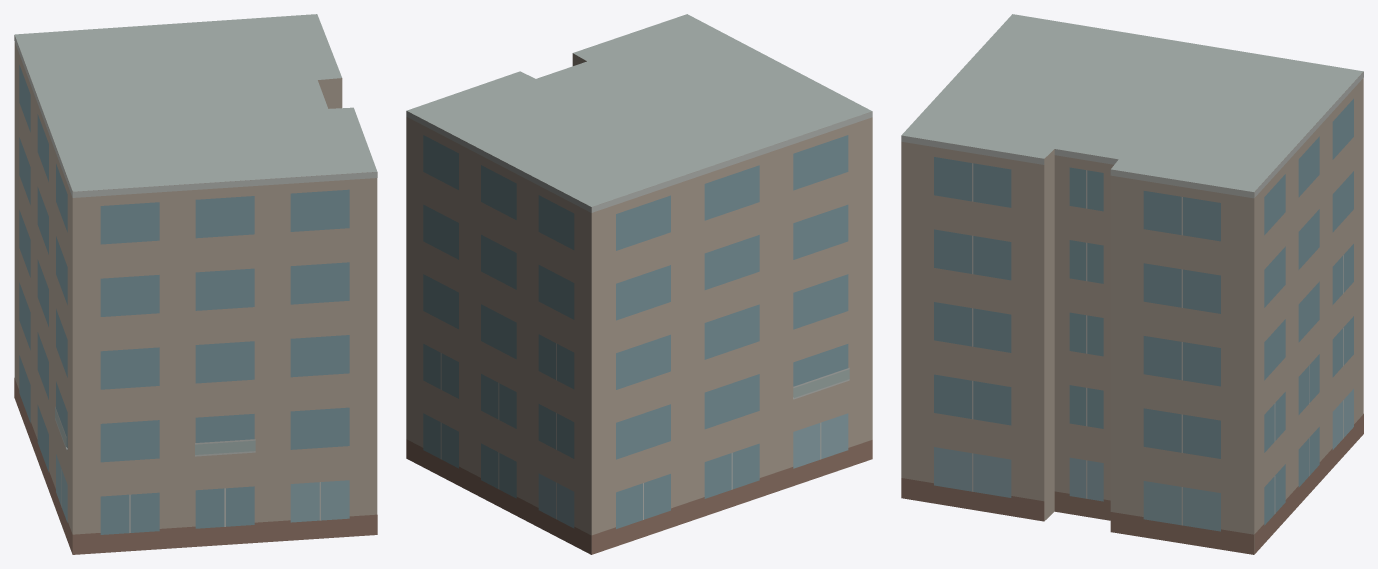
The model's file is survey-upis-32970397.glb.
The picture shows the model from 3 angles, left to right: view 1: azimuth 30°, elevation 25°; view 2: azimuth 150°, elevation 25°; view 3: azimuth 270°, elevation 25°; orthographic projection. The views are drawn at different scales.
Visible parts, largest first — view 1: survey-upis-32970397.tmp; view 2: survey-upis-32970397.tmp; view 3: survey-upis-32970397.tmp.
Boxes of the visible parts, bbox=[...] form: survey-upis-32970397.tmp: bbox=[14, 14, 377, 554]; survey-upis-32970397.tmp: bbox=[406, 14, 872, 554]; survey-upis-32970397.tmp: bbox=[901, 14, 1363, 554].
Bounding box in the file's own units: 14.97 × 14.2 × 16.42.
